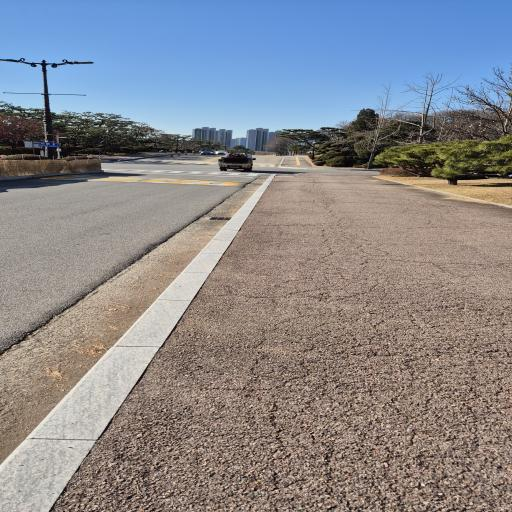drain: (209, 217, 231, 220)
